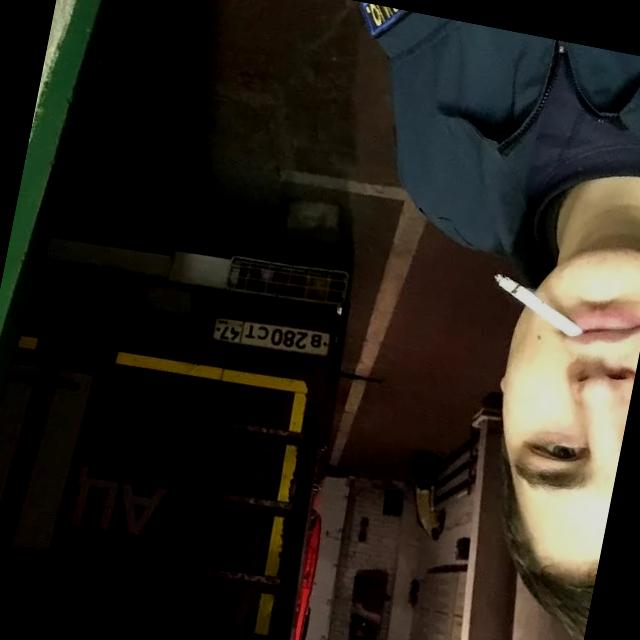smoke: (482, 268, 594, 342)
